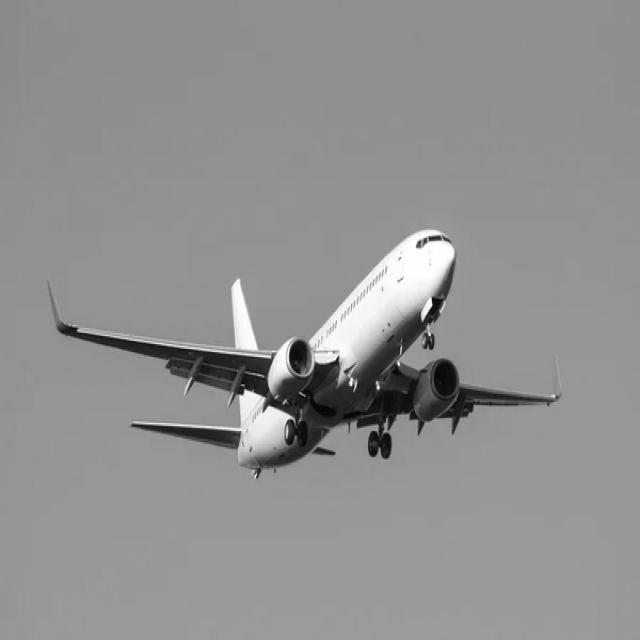Aircraft: (42, 218, 565, 481)
